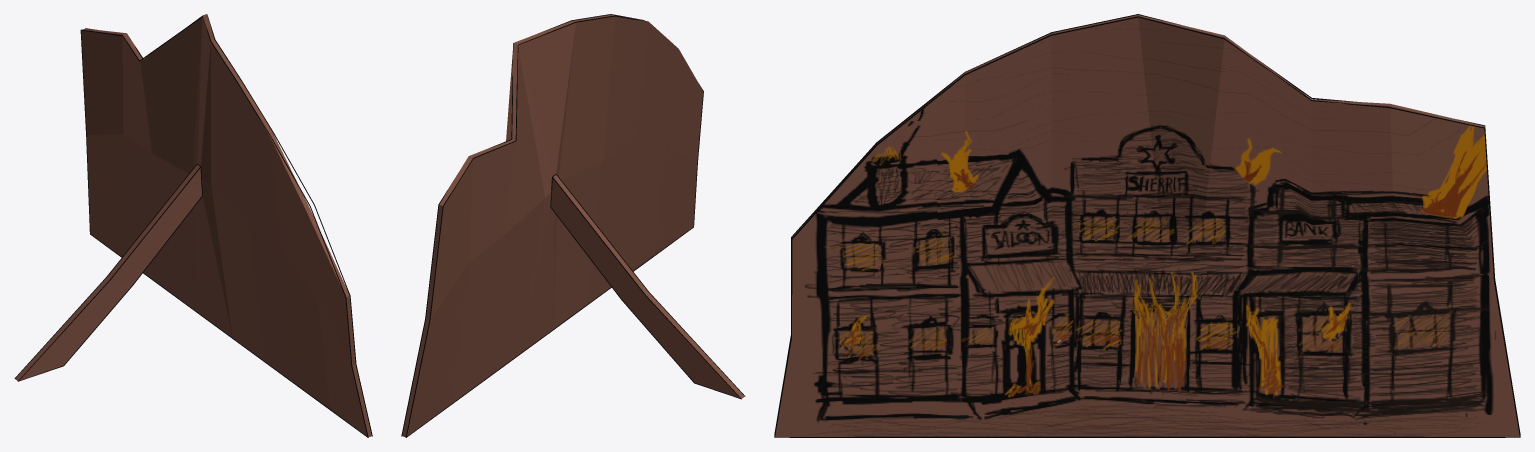
File: carboard3.glb
3 views of the same model, side by side, from view 1: azimuth 30°, elevation 25°; view 2: azimuth 150°, elevation 25°; view 3: azimuth 270°, elevation 25° (orthographic). The views are drawn at different scales.
Visible parts, largest first — view 1: Cube; view 2: Cube; view 3: Cube.
Part boxes in pixels (x1,y1,x2,y2): Cube: [14, 14, 372, 437]; Cube: [401, 14, 745, 437]; Cube: [774, 14, 1520, 437].
Size of the model in its own units: 5.18 by 7.37 by 12.05.
2 materials, 1 textured.
